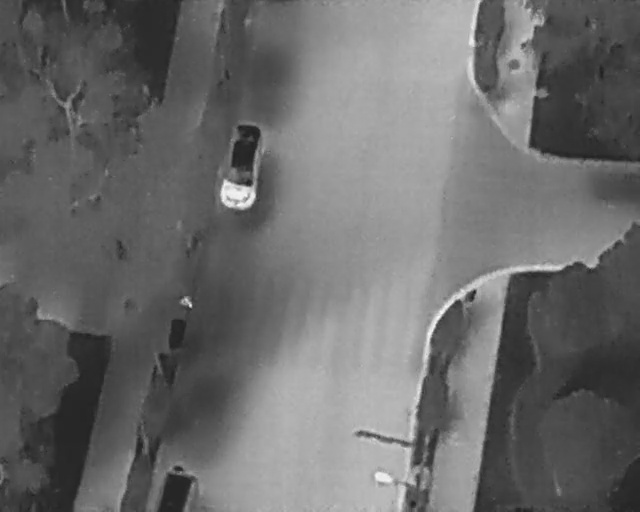Car: (217, 120, 265, 211), (157, 468, 197, 510)
